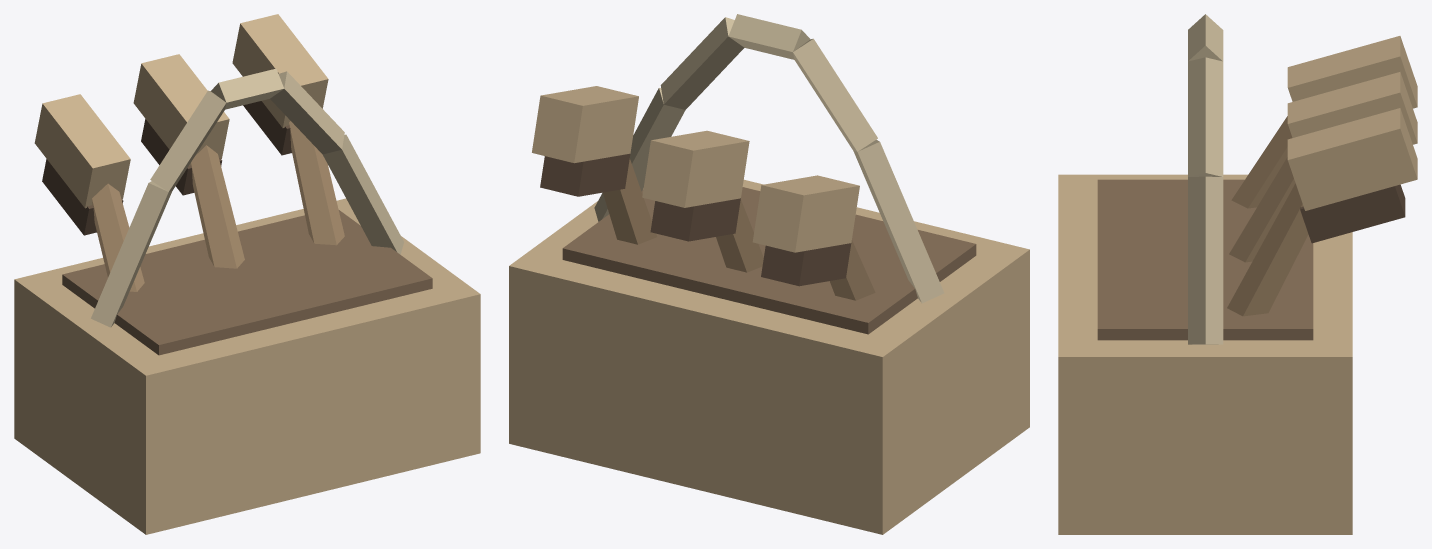
The model's file is grooming_tote.glb.
3 views of the same model, side by side, from view 1: azimuth 30°, elevation 25°; view 2: azimuth 150°, elevation 25°; view 3: azimuth 270°, elevation 25° (orthographic). The views are drawn at different scales.
Parts seen in each view (by area): view 1: grooming_tote; view 2: grooming_tote; view 3: grooming_tote.
Part boxes in pixels (<box>): grooming_tote: <box>14,14,480,534</box>; grooming_tote: <box>509,14,1029,534</box>; grooming_tote: <box>1058,14,1417,534</box>.
Bounding box in the file's own units: 0.44 × 0.4653 × 0.3662.
